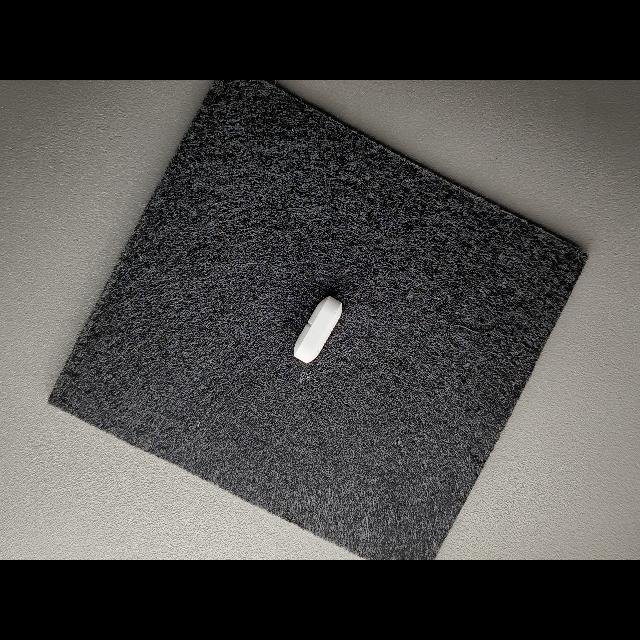Intact Pill: (294, 296, 342, 364)
